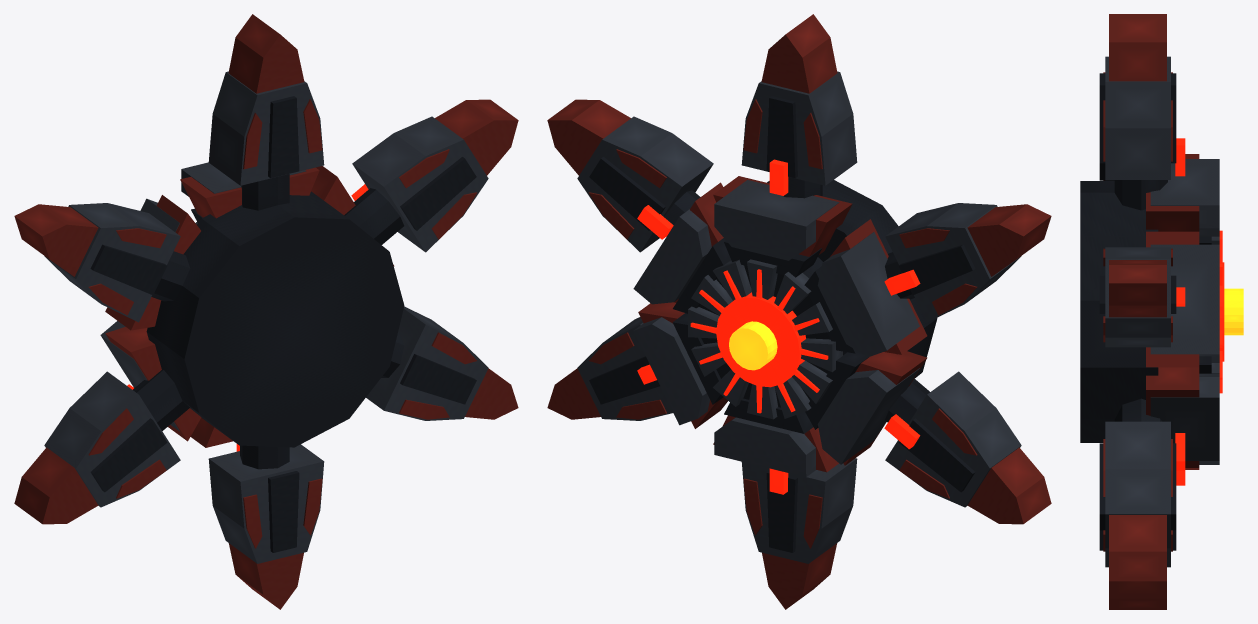
Rendered from riftspike.glb.
3 views of the same model, side by side, from view 1: azimuth 30°, elevation 25°; view 2: azimuth 150°, elevation 25°; view 3: azimuth 270°, elevation 25° (orthographic). The views are drawn at different scales.
Visible parts, largest first — view 1: export-merged-riftspike; view 2: export-merged-riftspike; view 3: export-merged-riftspike.
Part boxes in pixels (x1=…): export-merged-riftspike: x1=14, y1=14, x2=518, y2=609; export-merged-riftspike: x1=547, y1=14, x2=1051, y2=609; export-merged-riftspike: x1=1080, y1=14, x2=1243, y2=609.
Size of the model in its own units: 3.64 by 4.2 by 1.05.
Materials: 1 (1 with a texture image).
